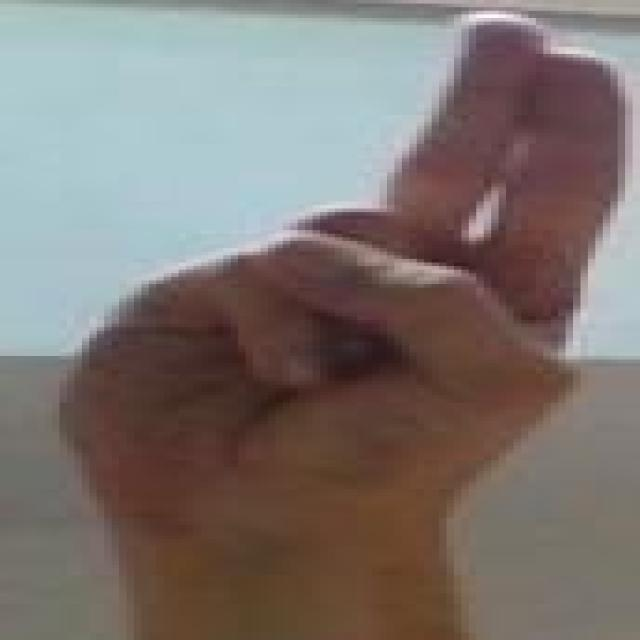U: (67, 0, 633, 629)
